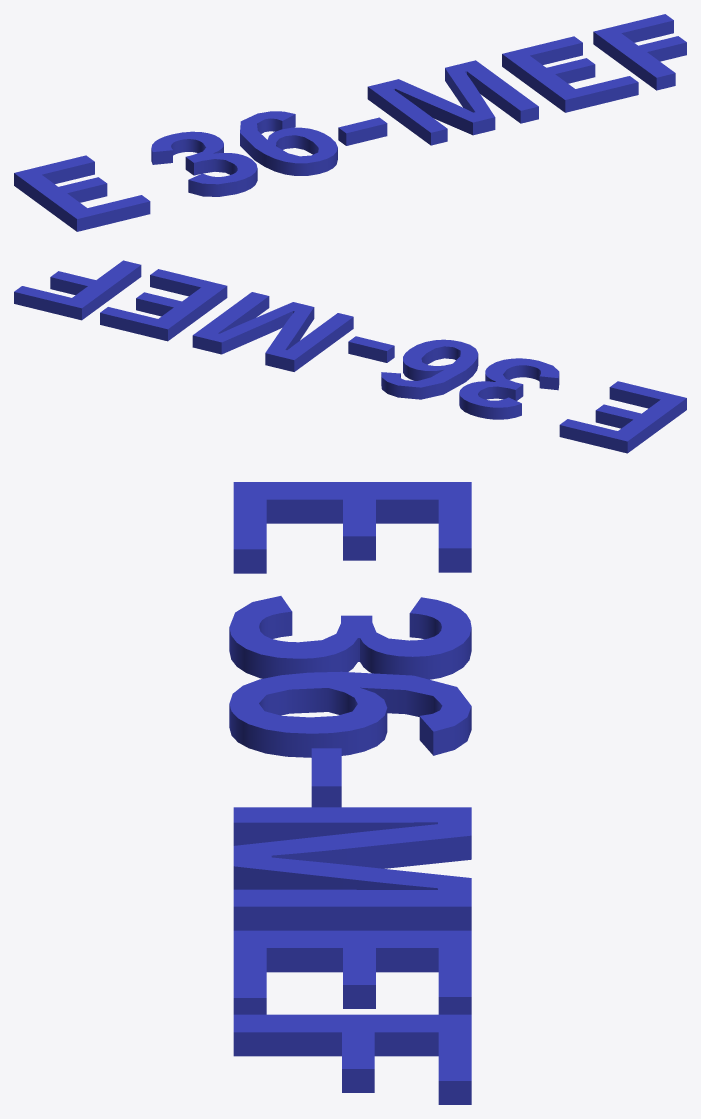
File: e36mef.fbx
The picture shows the model from 3 angles, top to bottom: view 1: azimuth 30°, elevation 25°; view 2: azimuth 150°, elevation 25°; view 3: azimuth 270°, elevation 25°; orthographic projection. The views are drawn at different scales.
Parts seen in each view (by area): view 1: node_id276; view 2: node_id276; view 3: node_id276.
Part boxes in pixels (left/top/right/bottom): node_id276: left=14, top=14, right=686, bottom=231; node_id276: left=14, top=260, right=686, bottom=453; node_id276: left=229, top=482, right=471, bottom=1104.
Size of the model in its own units: 0.9987 by 0.0188 by 0.1707.
